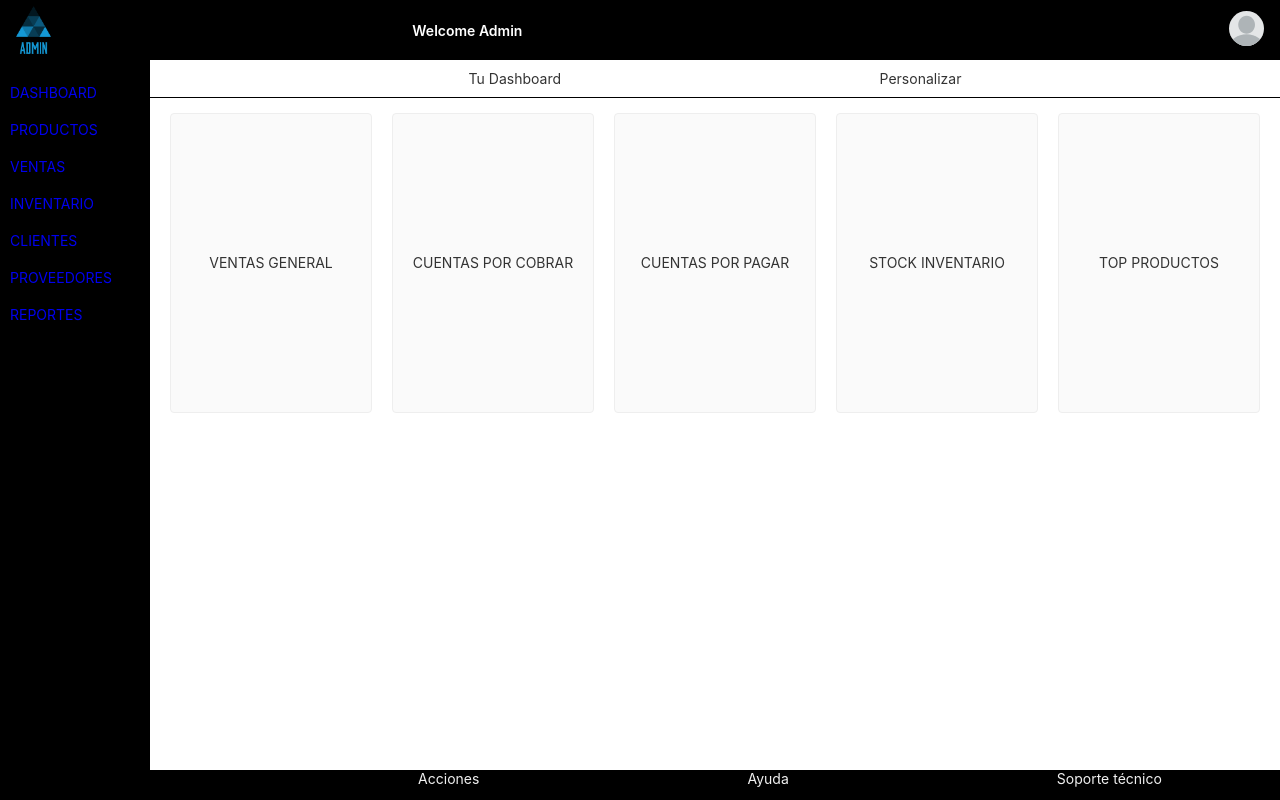
Test case: Admin app › Navigates to the products page
Click the link "PRODUCTOS": [54, 130] box [10, 121, 98, 138]
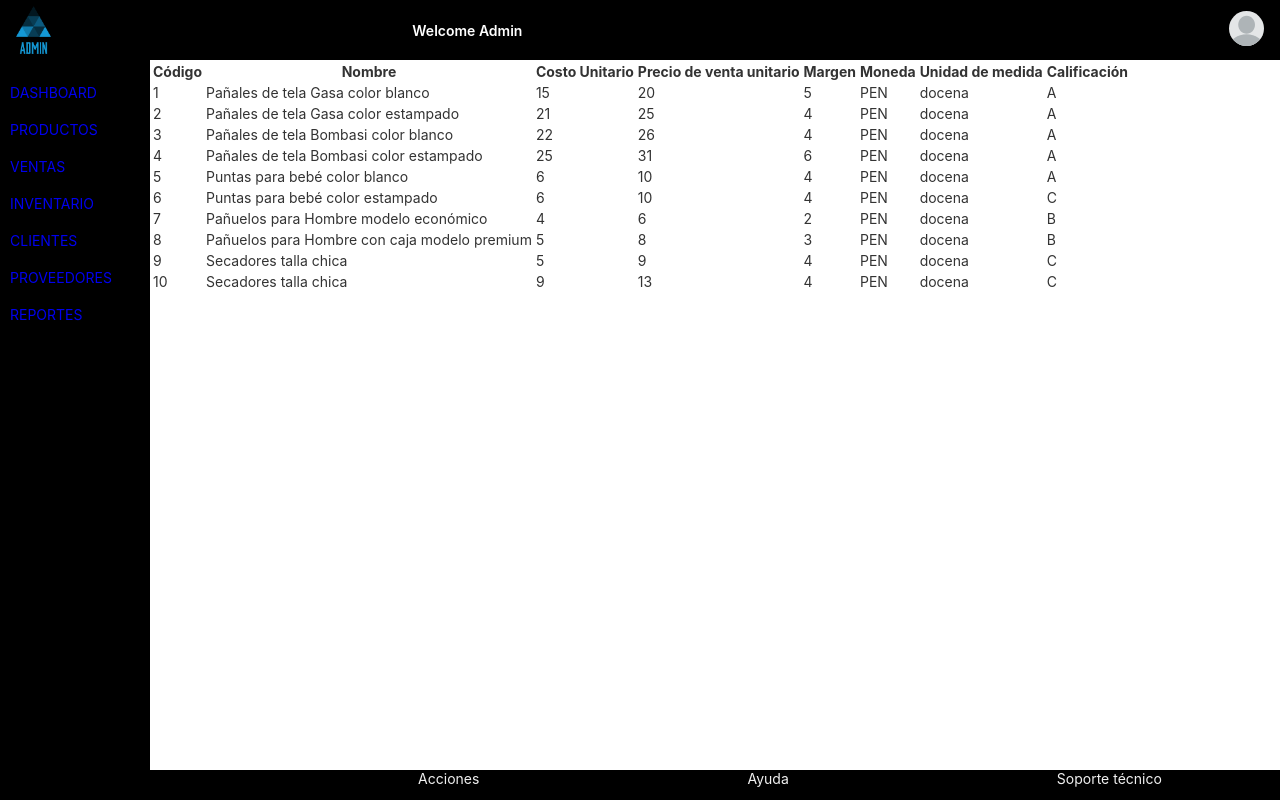
Expected: the text "Acciones" is shown, [418, 770, 479, 787]
Expected: the column heading "Código" is shown, [152, 62, 203, 81]
Expected: the text "Pañales de tela Gasa color blanco" is shown, [205, 83, 533, 102]
